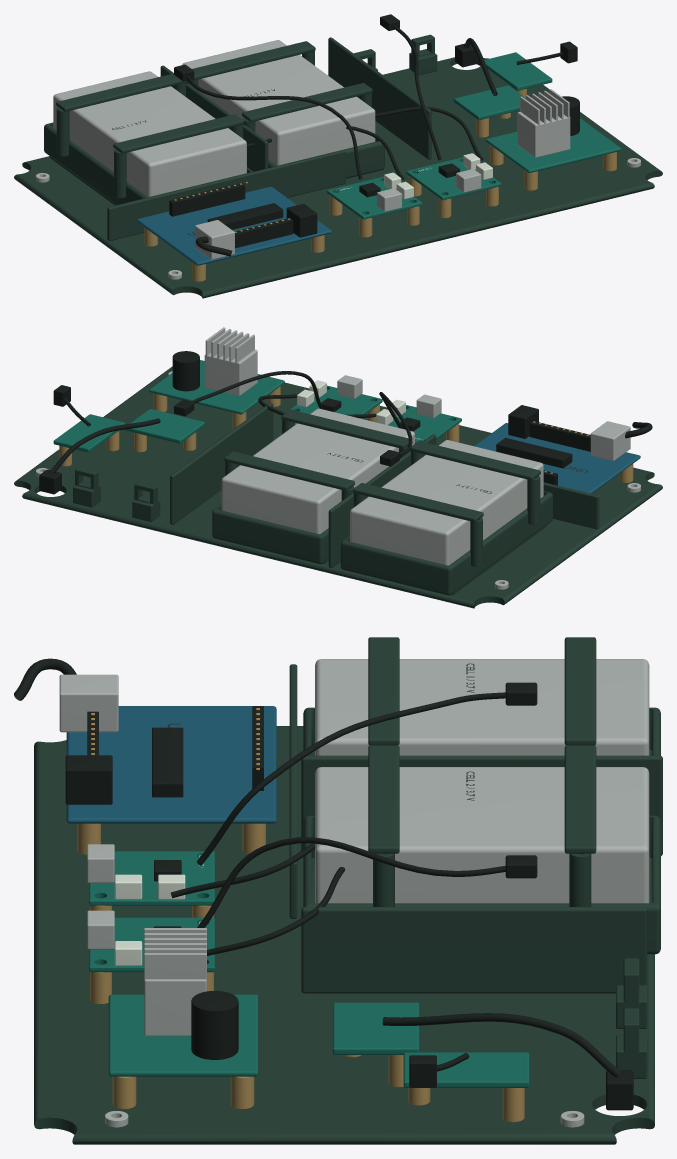
Rendered from sylva-foundation-r02.glb.
3 renders of one model, top to bottom at view 1: azimuth 30°, elevation 25°; view 2: azimuth 150°, elevation 25°; view 3: azimuth 270°, elevation 25°, orthographic. The views are drawn at different scales.
Parts seen in each view (by area): view 1: R02 Electronics service carrier, R02 Battery 1 USER 50 x 85 x 25, R02 Battery 2 USER 50 x 85 x 25, R02 Cell to logic partition, R02 Power bay partition, R02 Uno / Arduino UNO R3 | 68.6 x 53.001, R02 Boost converter provisional 47 x 38, R02 Battery 1 cradle, R02 Boost heatsink, R02 Battery 1 retaining bridge 10, R02 Battery divider, R02 HS P03 controller 2 30 x 32 (+21 smaller); view 2: R02 Electronics service carrier, R02 Battery 1 USER 50 x 85 x 25, R02 Battery 2 USER 50 x 85 x 25, R02 Battery 1 cradle, R02 Power bay partition, R02 Battery 2 cradle, R02 Uno / Arduino UNO R3 | 68.6 x 53.001, R02 Boost converter provisional 47 x 38, R02 Battery divider, R02 Boost heatsink, R02 Cell to logic partition, R02 Battery 2 retaining bridge 60 (+24 smaller); view 3: R02 Electronics service carrier, R02 Battery 2 USER 50 x 85 x 25, R02 Power bay partition, R02 Battery 1 USER 50 x 85 x 25, R02 Uno / Arduino UNO R3 | 68.6 x 53.001, R02 Boost converter provisional 47 x 38, R02 Battery divider, R02 Pump MOSFET stage - provisional, R02 HS P03 controller 1 30 x 32, R02 Battery 2 cradle, R02 Battery 2 retaining bridge 60, R02 Battery 1 retaining bridge 60 (+35 smaller).
Boxes of the visible parts, box(x1,y1,x2,y2) form: R02 Electronics service carrier: box(14, 57, 662, 298); R02 Battery 1 USER 50 x 85 x 25: box(53, 71, 246, 196); R02 Battery 2 USER 50 x 85 x 25: box(182, 40, 375, 165); R02 Cell to logic partition: box(107, 150, 345, 241); R02 Power bay partition: box(328, 37, 431, 159); R02 Uno / Arduino UNO R3 | 68.6 x 53.001: box(136, 186, 331, 265); R02 Boost converter provisional 47 x 38: box(485, 118, 621, 172); R02 Battery 1 cradle: box(44, 122, 253, 204); R02 Boost heatsink: box(517, 111, 570, 157); R02 Battery 1 retaining bridge 10: box(113, 114, 243, 153); R02 Battery divider: box(160, 65, 268, 171); R02 HS P03 controller 2 30 x 32: box(406, 157, 501, 200); R02 Electronics service carrier: box(14, 366, 662, 608); R02 Battery 1 USER 50 x 85 x 25: box(350, 440, 543, 565); R02 Battery 2 USER 50 x 85 x 25: box(221, 408, 414, 534); R02 Battery 1 cradle: box(340, 491, 552, 595); R02 Power bay partition: box(170, 402, 273, 524); R02 Battery 2 cradle: box(212, 504, 328, 564); R02 Uno / Arduino UNO R3 | 68.6 x 53.001: box(474, 423, 640, 493); R02 Boost converter provisional 47 x 38: box(149, 360, 284, 414); R02 Battery divider: box(328, 434, 436, 567); R02 Boost heatsink: box(204, 349, 257, 395); R02 Cell to logic partition: box(543, 482, 599, 529); R02 Battery 2 retaining bridge 60: box(224, 451, 354, 490); R02 Electronics service carrier: box(34, 726, 654, 1144); R02 Battery 2 USER 50 x 85 x 25: box(315, 767, 649, 903); R02 Power bay partition: box(301, 907, 647, 993); R02 Battery 1 USER 50 x 85 x 25: box(315, 659, 649, 755); R02 Uno / Arduino UNO R3 | 68.6 x 53.001: box(66, 706, 276, 823); R02 Boost converter provisional 47 x 38: box(108, 994, 257, 1076); R02 Battery divider: box(301, 755, 662, 855); R02 Pump MOSFET stage - provisional: box(333, 1002, 419, 1054); R02 HS P03 controller 1 30 x 32: box(89, 851, 214, 905); R02 Battery 2 cradle: box(303, 815, 660, 954); R02 Battery 2 retaining bridge 60: box(564, 745, 596, 853); R02 Battery 1 retaining bridge 60: box(564, 637, 596, 745).
Size of the model in its own units: 254 by 47 by 165.
